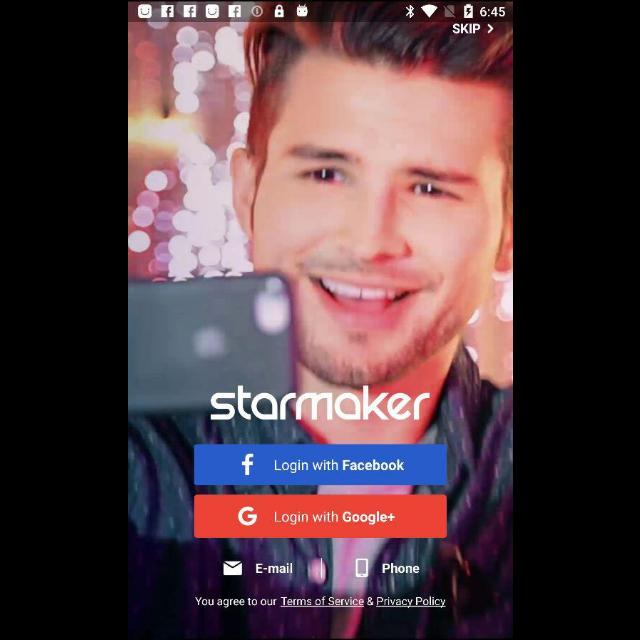backgroundimage: (128, 22, 512, 640)
icon: (222, 561, 242, 575)
image: (210, 385, 430, 421), (355, 559, 367, 577)
text: (194, 597, 446, 609), (452, 23, 492, 35), (256, 563, 292, 573), (382, 563, 418, 573)
textbutton: (194, 495, 446, 539), (193, 444, 447, 486)
uppertaskbar: (128, 1, 512, 23)
